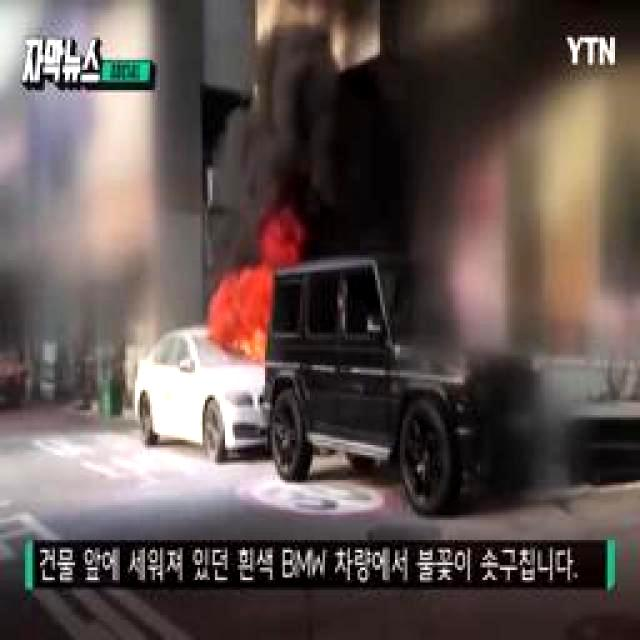fire: (218, 233, 290, 359)
